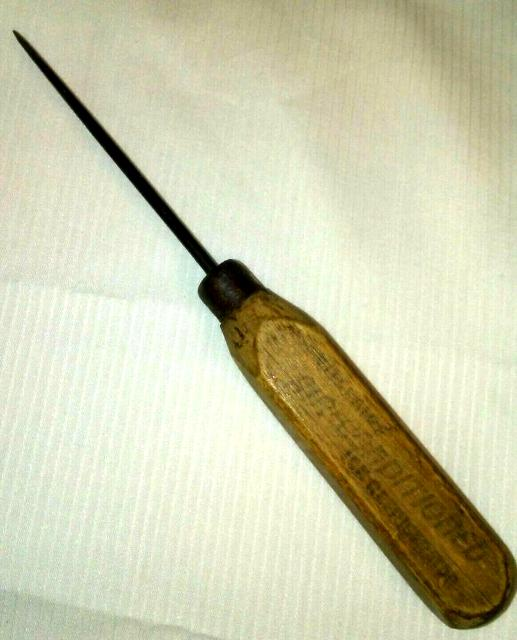ice pick: (11, 27, 517, 631)
